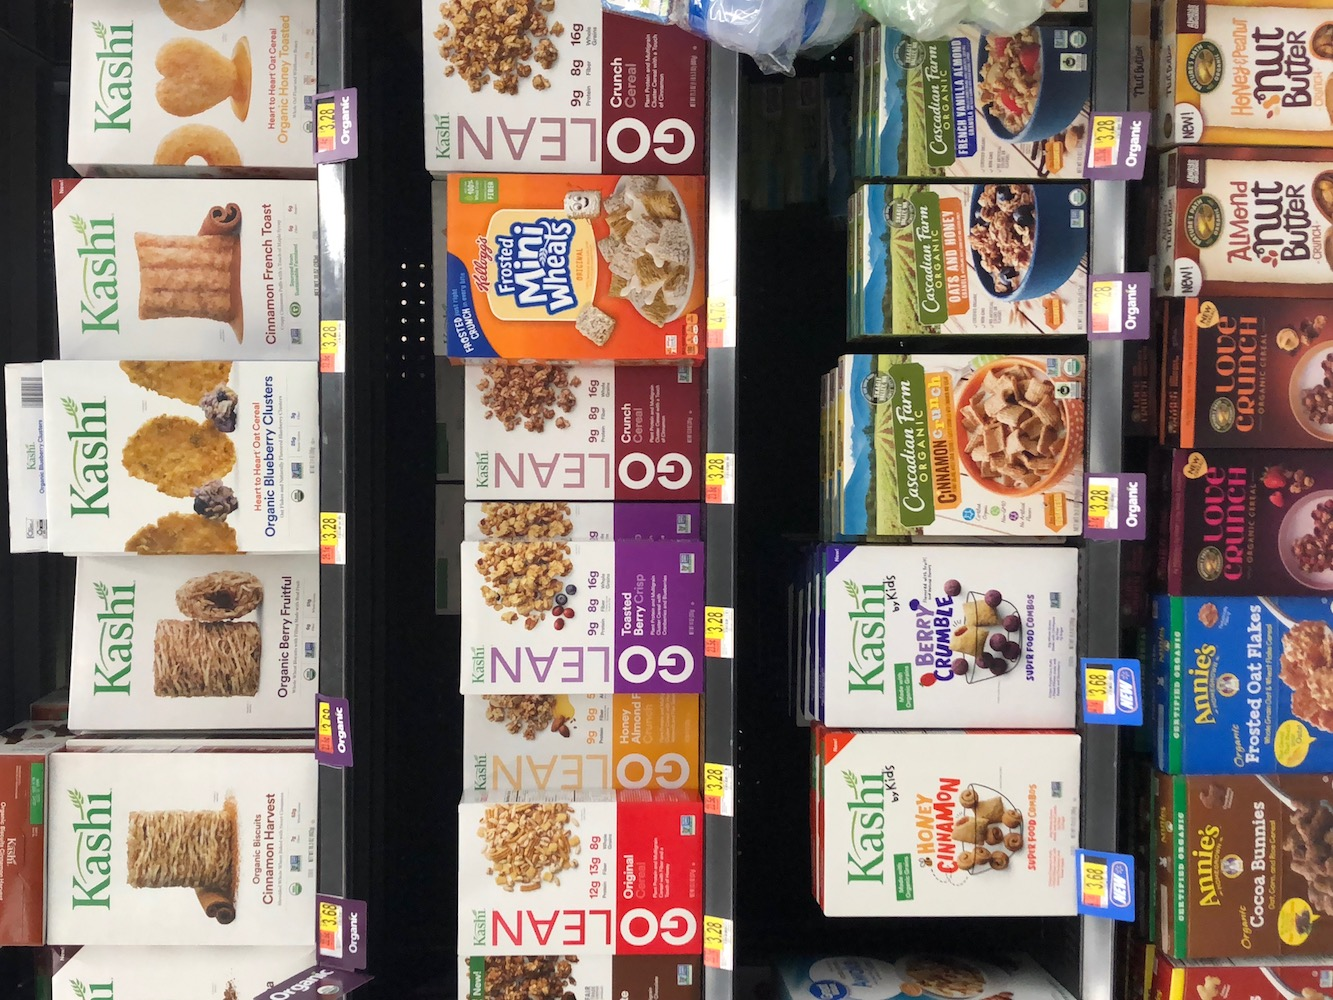Frosted Mini Original -9295869: (441, 172, 711, 360)
